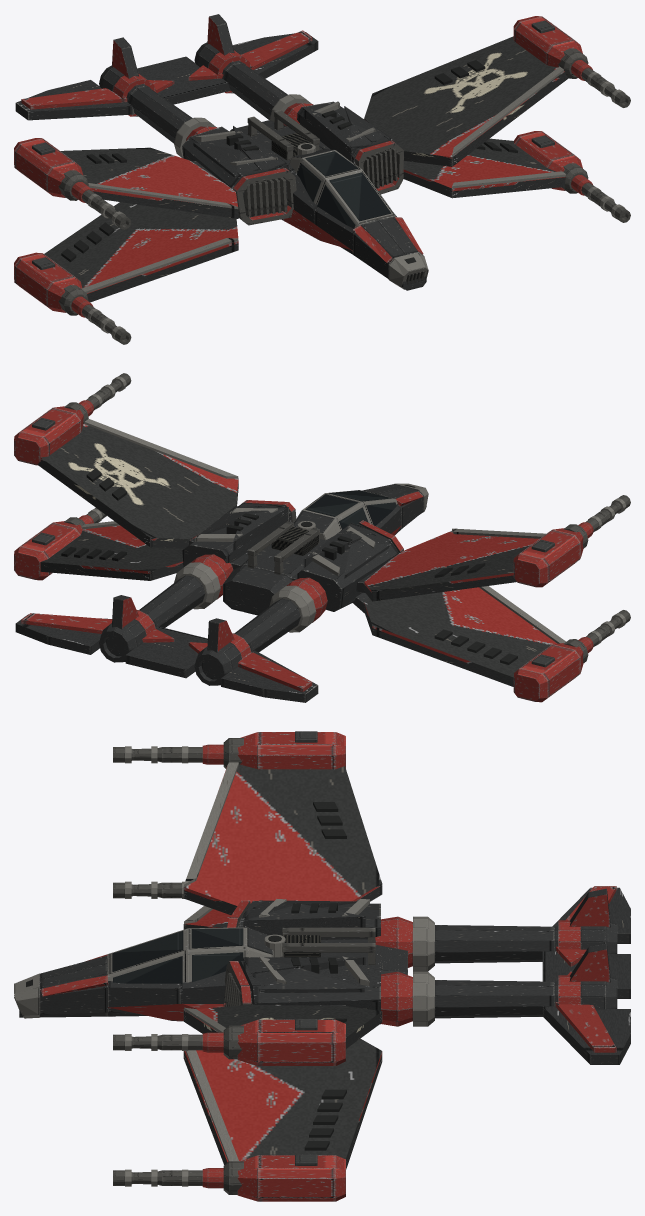
The model's file is scrapper.glb.
3 views of the same model, one above another, from view 1: azimuth 30°, elevation 25°; view 2: azimuth 150°, elevation 25°; view 3: azimuth 270°, elevation 25° (orthographic). The views are drawn at different scales.
Visible parts, largest first — view 1: Scrapper · Revised pirate fighter; view 2: Scrapper · Revised pirate fighter; view 3: Scrapper · Revised pirate fighter.
Part boxes in pixels (x1,y1,x2,y2): Scrapper · Revised pirate fighter: (14,14,630,344); Scrapper · Revised pirate fighter: (14,373,630,702); Scrapper · Revised pirate fighter: (14,731,630,1201).
Size of the model in its own units: 2.02 by 0.5285 by 1.72.
Materials: 1 (1 with a texture image).
